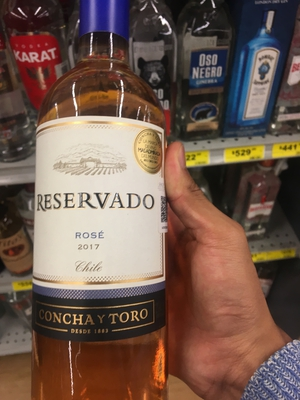reservado rose: (35, 20, 172, 400)
